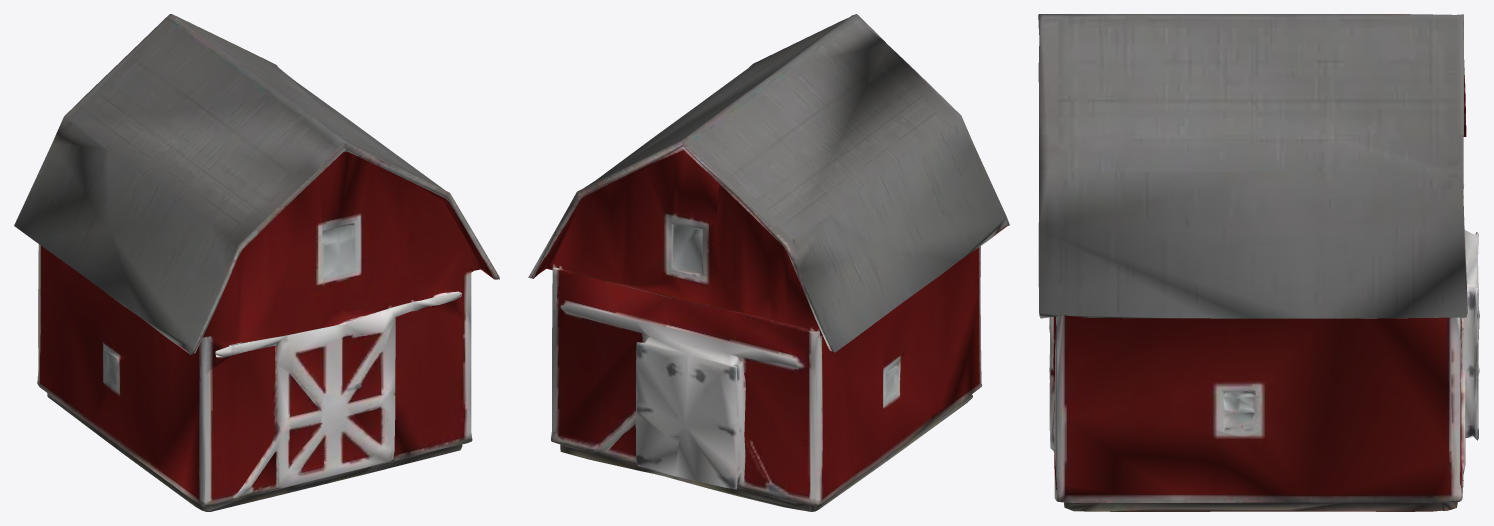
File: barn.glb
3 views of the same model, side by side, from view 1: azimuth 30°, elevation 25°; view 2: azimuth 150°, elevation 25°; view 3: azimuth 270°, elevation 25° (orthographic). The views are drawn at different scales.
Bounding box in the file's own units: 0.9311 × 0.9966 × 0.947.
Materials: 1 (1 with a texture image).
